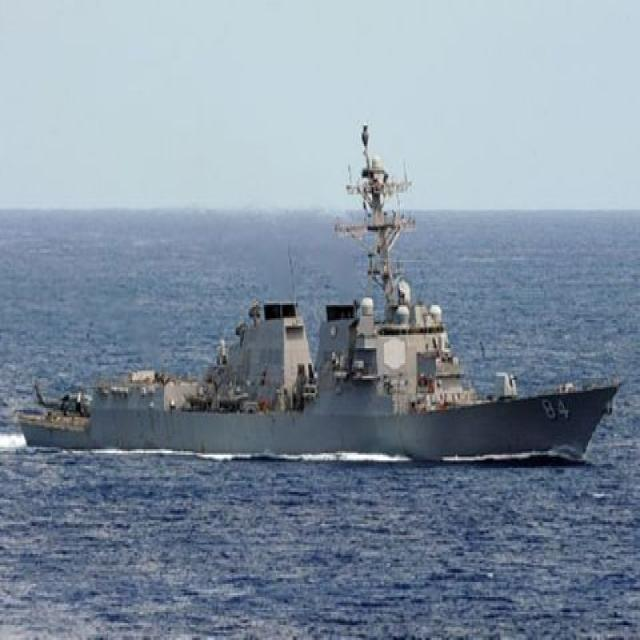navalvessels: (24, 105, 615, 464)
